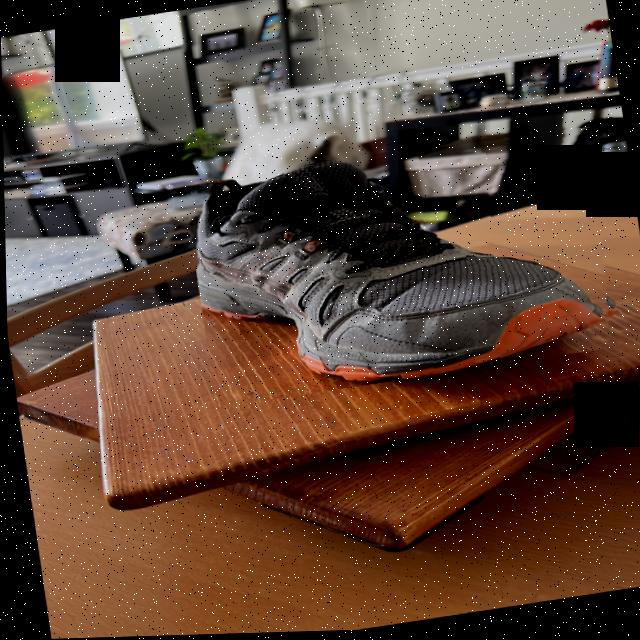shoe: (181, 122, 626, 409)
